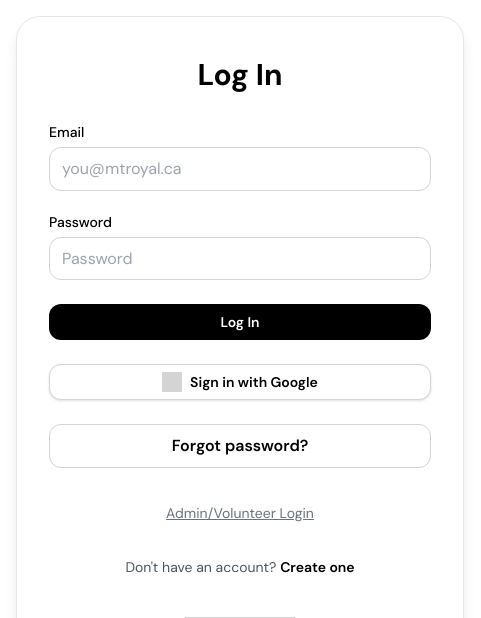
Scenario: LoginPage Component › Google Login › should show error message when Google login fails
Click the button "Sign in with Google" at (240, 382), box 49,364 -> 431,400
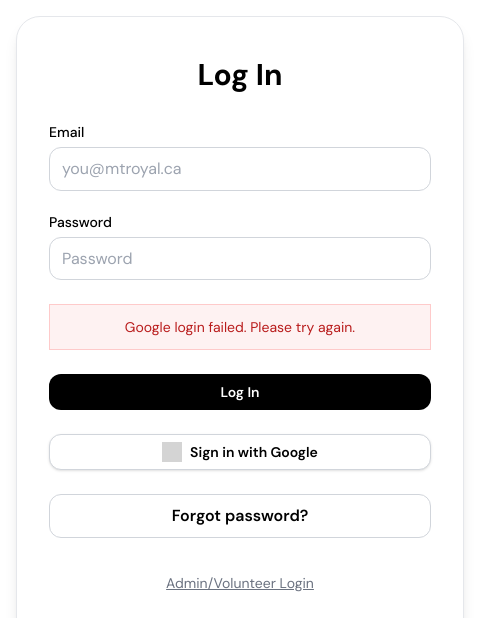
Expected: the text "Google login failed. Please try again." is shown, 125,318 -> 355,336
